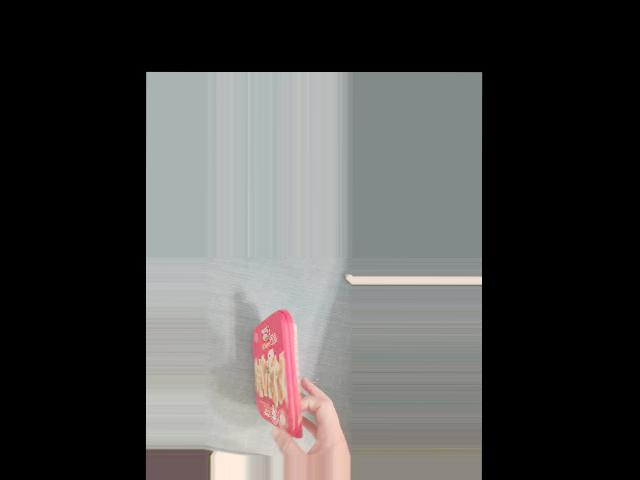cheese: (252, 313, 312, 437)
